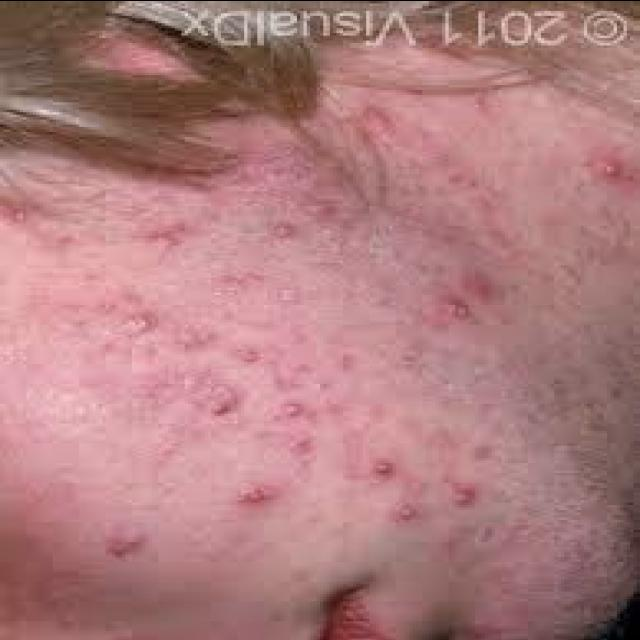Acne: (417, 285, 469, 329), (188, 381, 242, 421), (433, 476, 483, 514), (140, 216, 188, 254), (96, 526, 146, 562), (589, 151, 629, 191), (232, 477, 276, 510), (268, 395, 312, 427), (384, 496, 423, 528), (364, 451, 400, 485), (120, 308, 162, 336), (262, 217, 300, 246), (0, 203, 34, 228)
